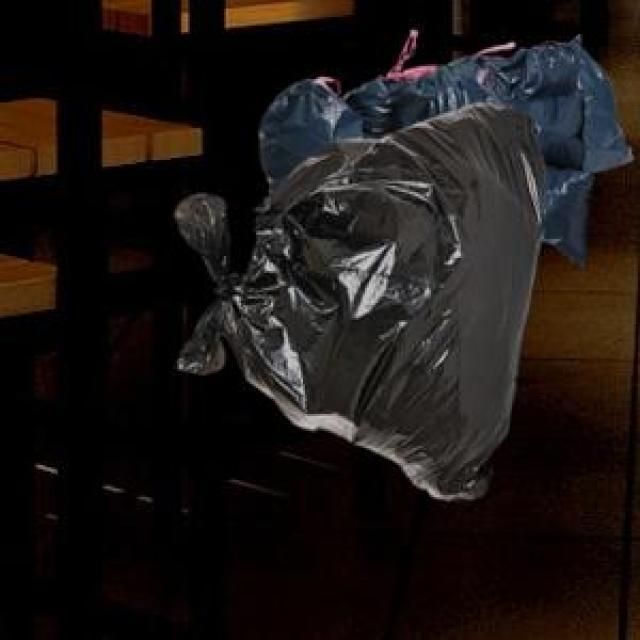Vinyl: (175, 40, 631, 499)
